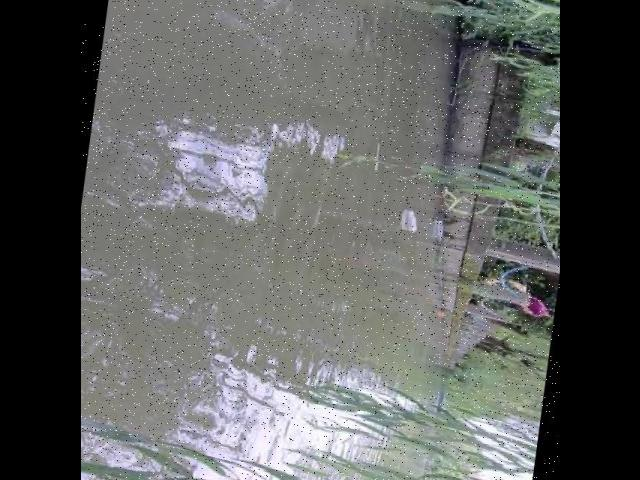Bottle: (430, 210, 446, 246)
Waste: (396, 206, 420, 236)
